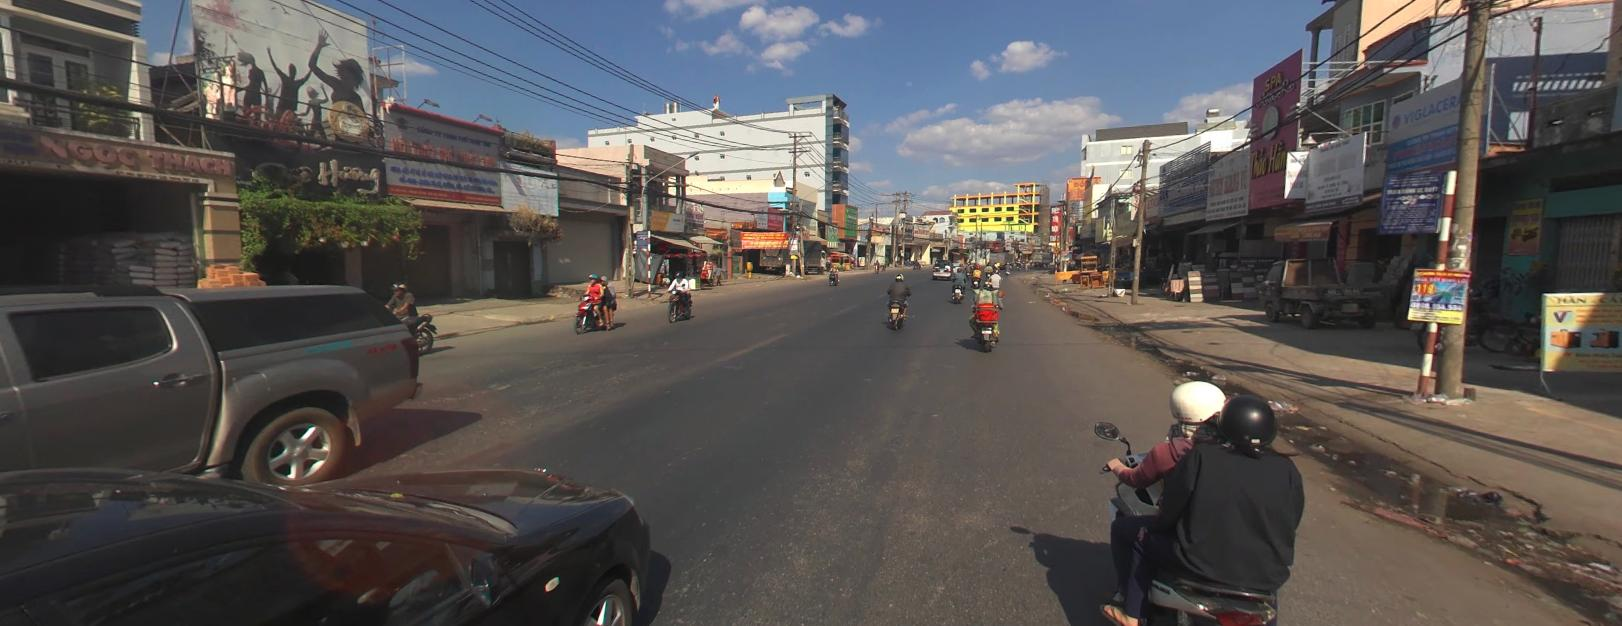Nguy hiem: (1052, 245, 1060, 252)
